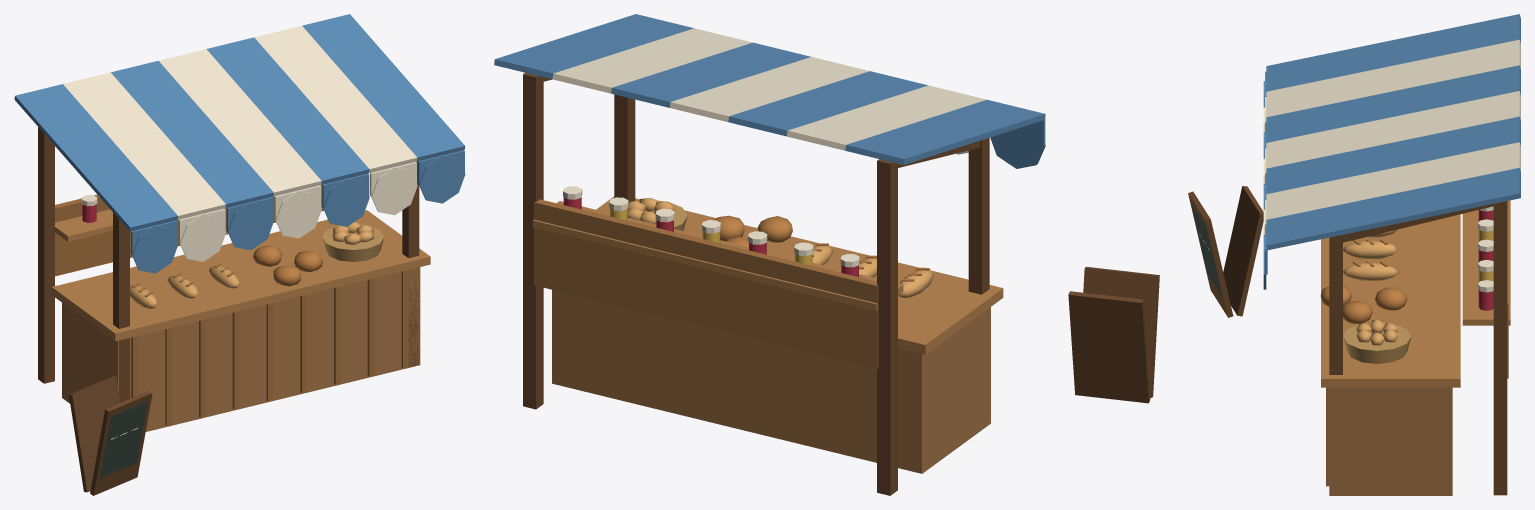
Rendered from stall_bakery.glb.
The picture shows the model from 3 angles, left to right: view 1: azimuth 30°, elevation 25°; view 2: azimuth 150°, elevation 25°; view 3: azimuth 270°, elevation 25°; orthographic projection. The views are drawn at different scales.
Parts seen in each view (by area): view 1: Market_Stall_Bakery; view 2: Market_Stall_Bakery; view 3: Market_Stall_Bakery.
Part boxes in pixels (box(x1,y1,x2,y2)): Market_Stall_Bakery: box(14, 14, 465, 495); Market_Stall_Bakery: box(494, 14, 1159, 495); Market_Stall_Bakery: box(1188, 14, 1520, 495).
Size of the model in its own units: 3.75 by 2.51 by 2.43.
